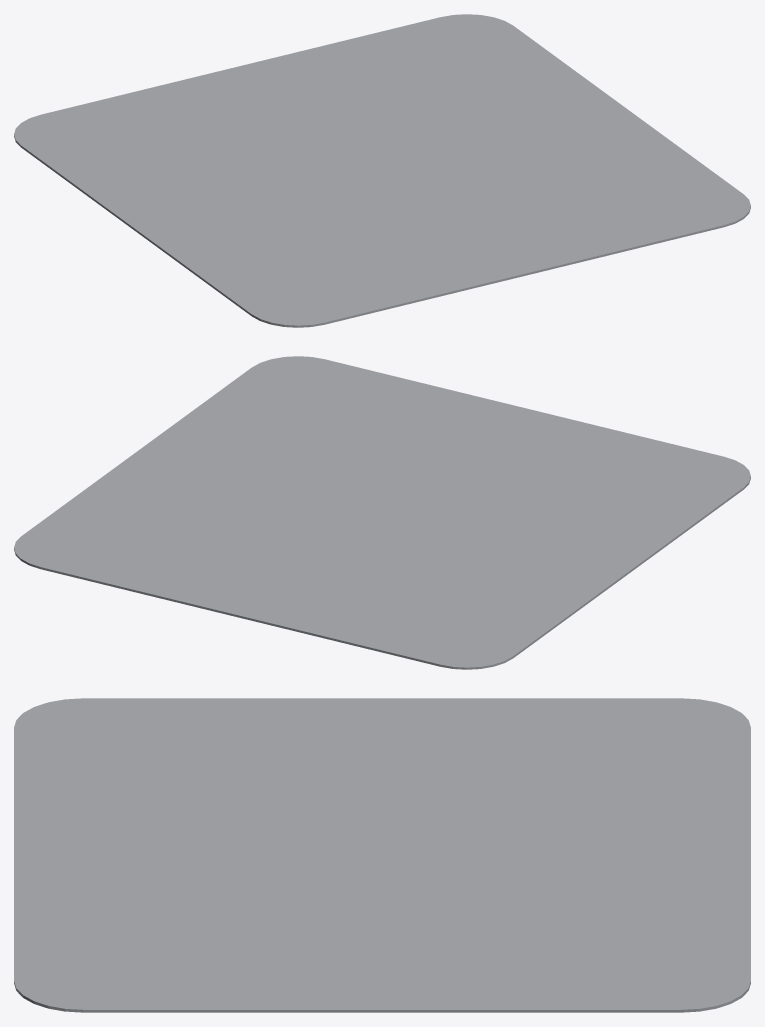
3 renders of one model, top to bottom at view 1: azimuth 30°, elevation 25°; view 2: azimuth 150°, elevation 25°; view 3: azimuth 270°, elevation 25°, orthographic. The views are drawn at different scales.
Visible parts, largest first — view 1: COM-02 Floor Surface; view 2: COM-02 Floor Surface; view 3: COM-02 Floor Surface.
Part boxes in pixels (<box>): COM-02 Floor Surface: <box>14,14,750,327</box>; COM-02 Floor Surface: <box>14,356,750,669</box>; COM-02 Floor Surface: <box>14,698,750,1012</box>.
Bounding box in the file's own units: 192 × 0.8 × 192.
